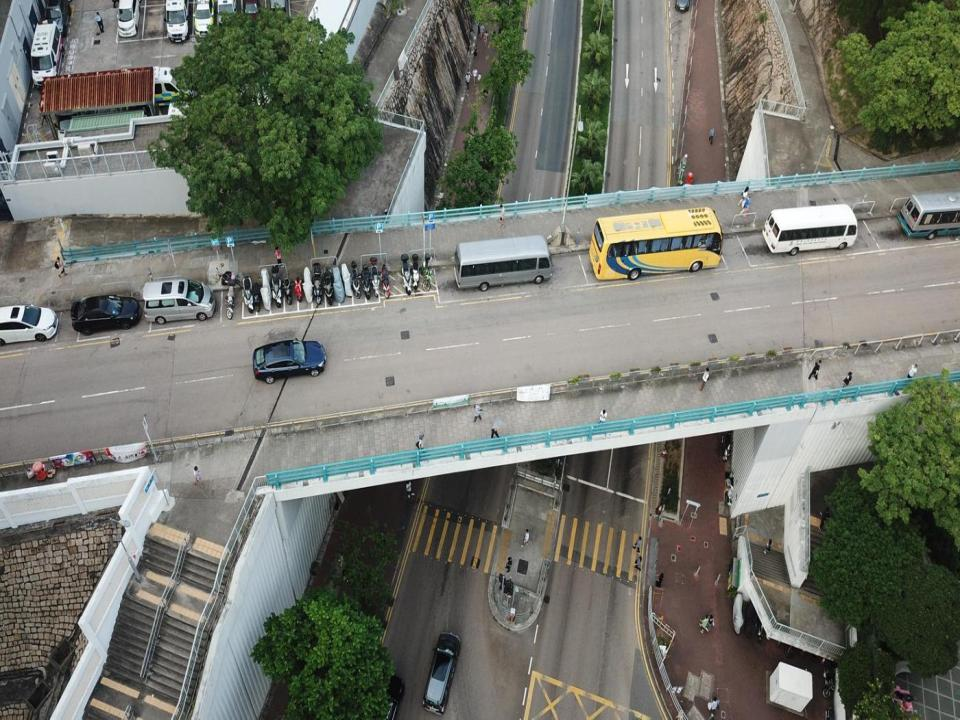bus: (588, 207, 722, 279), (454, 234, 552, 291), (762, 204, 857, 256), (896, 193, 960, 240)
car: (253, 338, 326, 384), (70, 294, 140, 336), (360, 675, 404, 719), (117, 0, 140, 37), (192, 0, 215, 37), (242, 0, 262, 30)
van: (143, 278, 215, 324), (423, 632, 460, 714), (30, 19, 65, 89), (0, 304, 58, 345), (138, 67, 193, 106), (41, 0, 70, 38), (164, 0, 189, 43), (268, 0, 286, 27)
